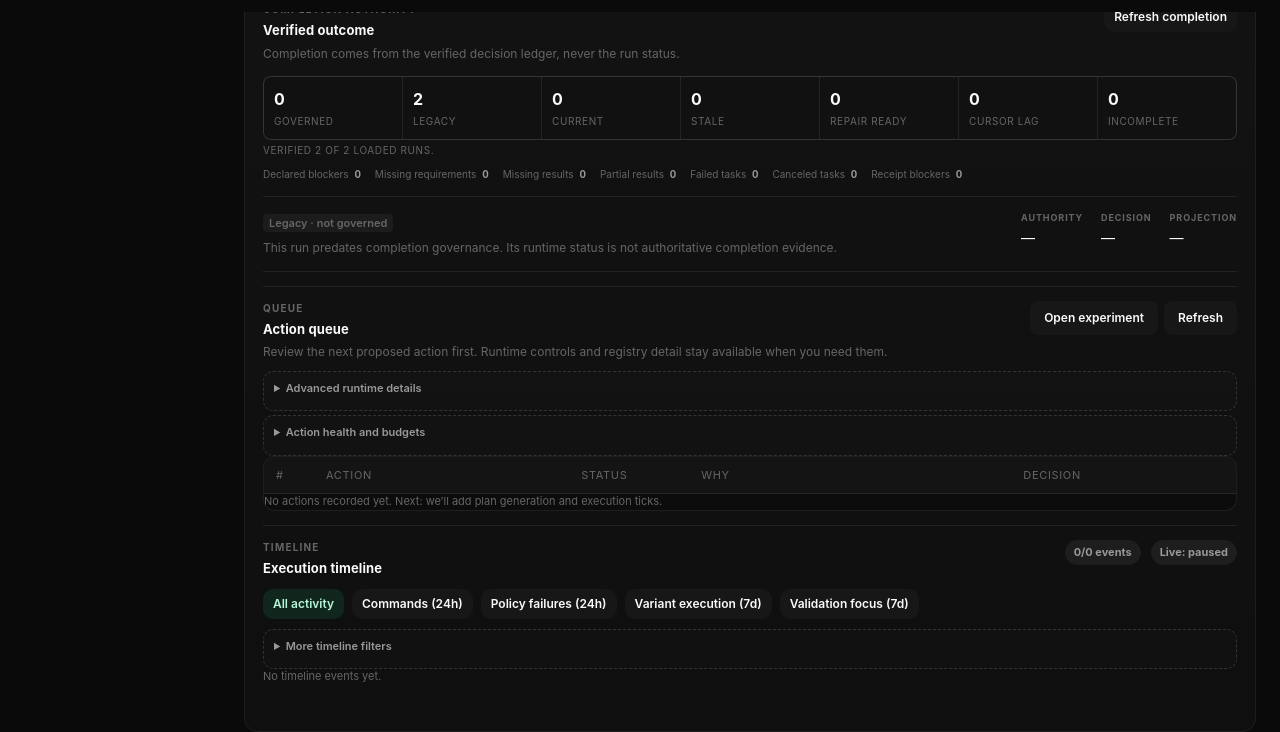
it: AgentRunsPage timeline presets › shows custom view badge when filters diverge from presets
The image size is (1280, 732).
(page scrolled)
Click the button "Policy failures (24h)". click: (549, 604)
box: 481,589 -> 617,619
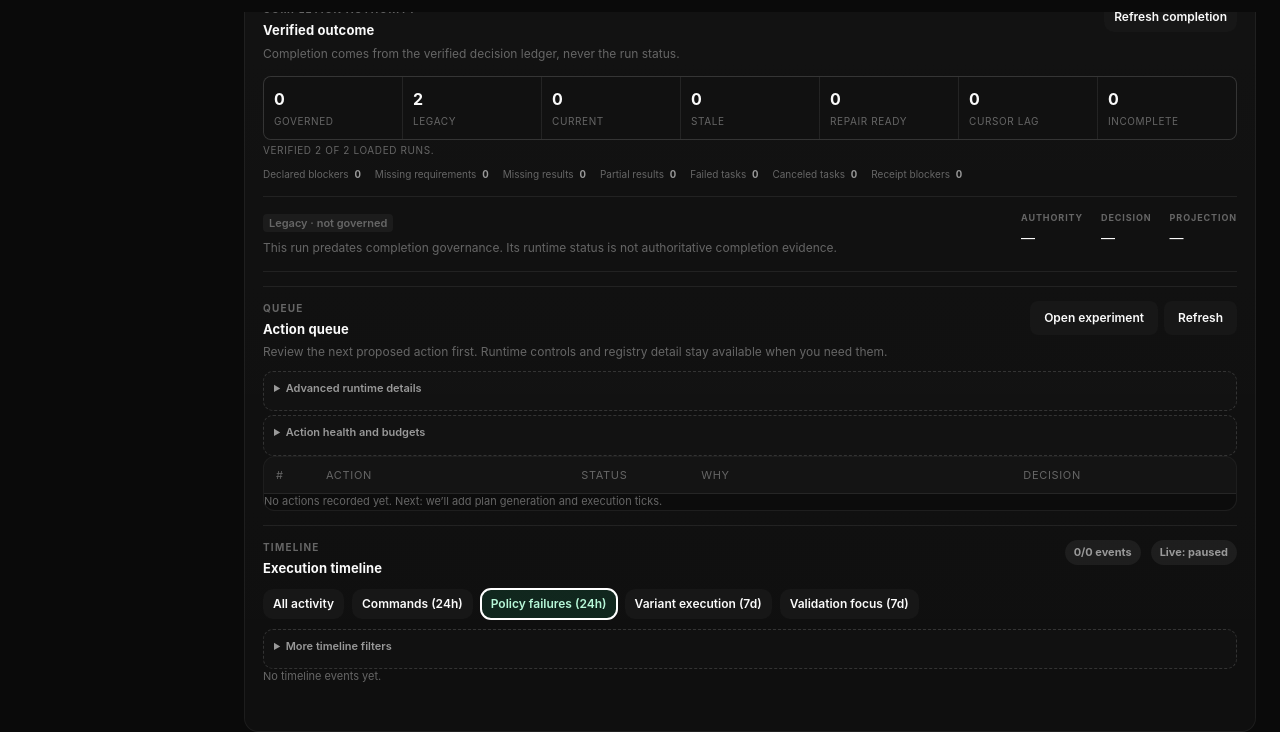
Click the heading "More timeline filters". click: (339, 646)
box: 286,639 -> 392,653
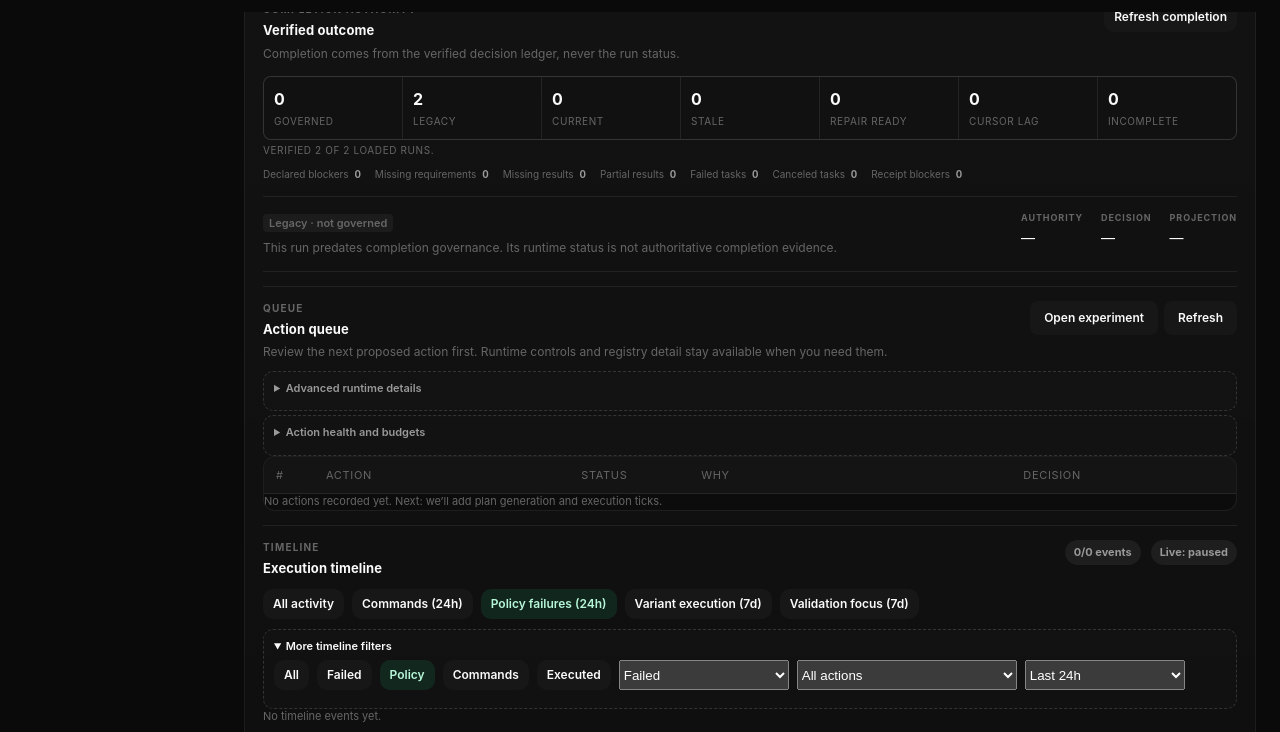
Select "Executed" in the dropdown named "Timeline status filter". click: (704, 675)
box: 619,660 -> 789,690
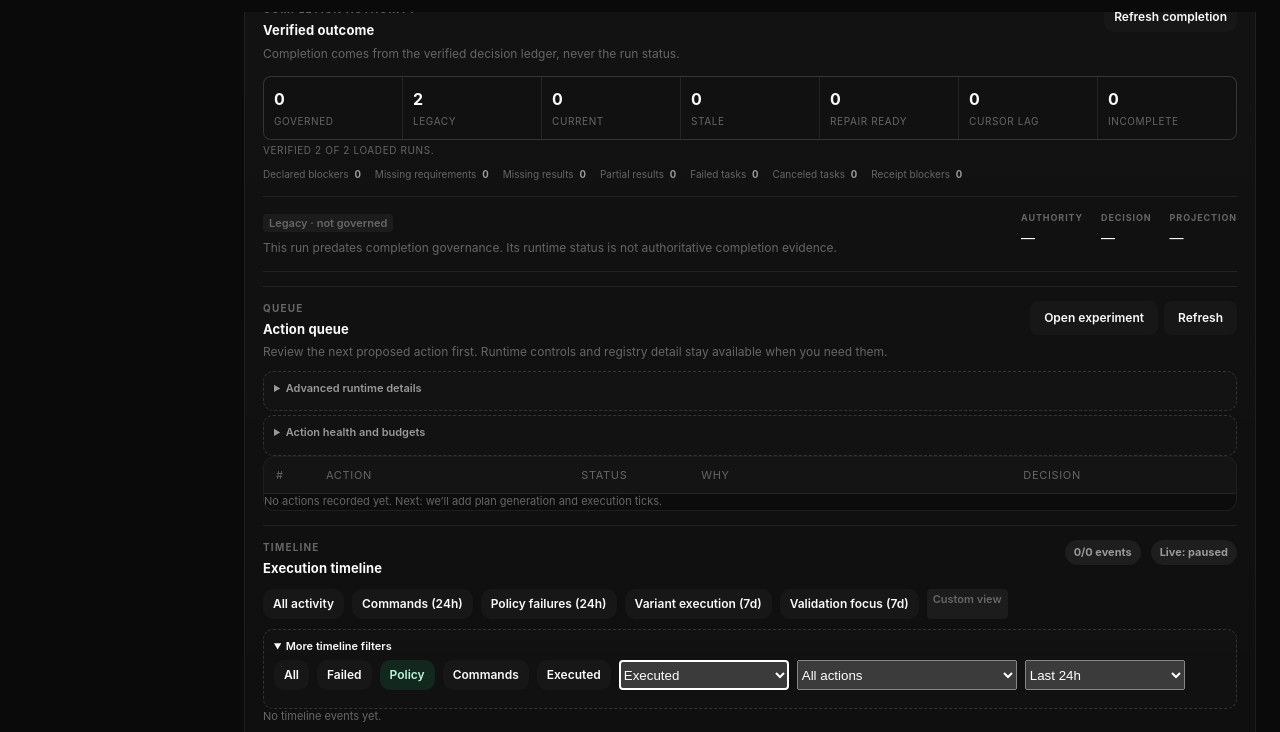
Check: the text "Custom view" is shown, box 927,589 -> 1008,619
